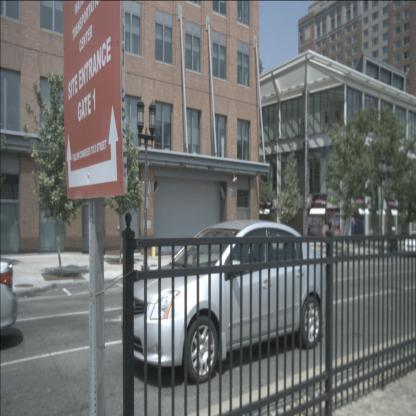vehicle-car: (121, 220, 330, 384), (402, 233, 416, 257)
vehicle-motorcycle: (387, 226, 398, 254)
